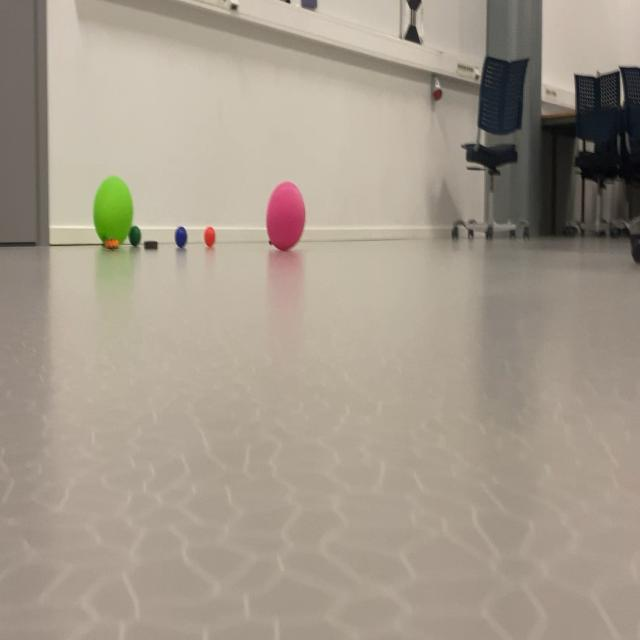7: (196, 218, 225, 260)
green ball: (170, 222, 194, 264)
red ball: (127, 214, 146, 255)
